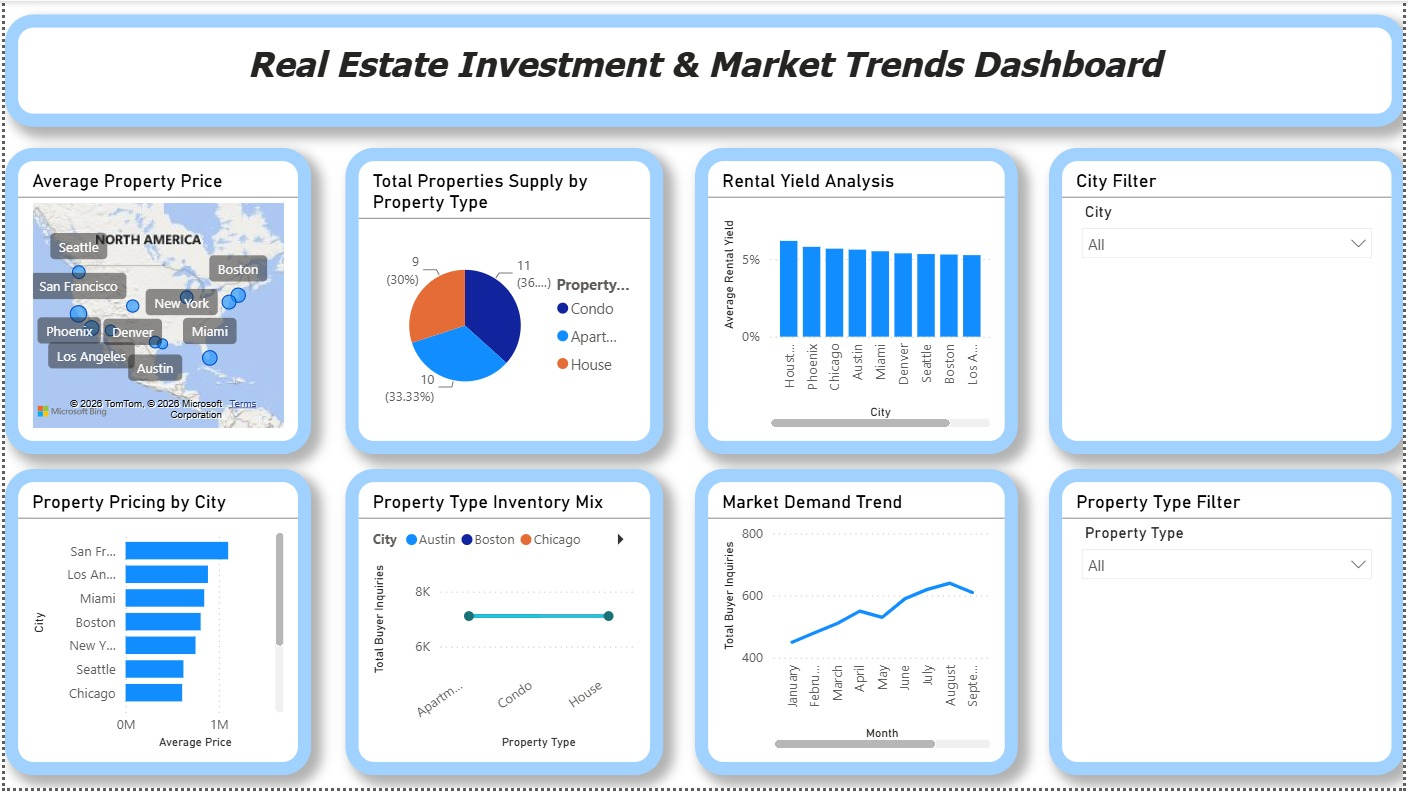

The page's visual inventory and layout, read from the dashboard file:
{"tool":"powerbi","page":{"name":"Page 1","canvas":[1280,720],"ordinal":0},"visuals":[{"type":"map","title":"Average Property Price","fields":{"Category":["Property_Transactions.City"],"Size":["Market_Demand_Forecast.Average Price"]},"box":[0,134.5,280,280],"z":0},{"type":"clusteredBarChart","title":"Property Pricing by City","fields":{"Category":["Property_Transactions.City"],"Y":["Market_Demand_Forecast.Average Price"]},"box":[0,428.2,280,280],"z":1000},{"type":"pieChart","fields":{"Category":["Property_Transactions.Property Type"],"Y":["Market_Demand_Forecast.Total Properties Supply"]},"box":[311.5,134.5,290.9,280],"z":2000},{"type":"lineChart","title":"Property Type Inventory Mix","fields":{"Category":["Property_Transactions.Property Type"],"Y":["Market_Demand_Forecast.Total Buyer Inquiries"],"Series":["Property_Transactions.City"]},"box":[311.5,428.2,290.9,280],"z":3000},{"type":"clusteredColumnChart","title":"Rental Yield Analysis","fields":{"Category":["Property_Transactions.City"],"Y":["Market_Demand_Forecast.Average Rental Yield"]},"box":[631.3,134.5,295.1,280],"z":4000},{"type":"lineChart","title":"Market Demand Trend","fields":{"Category":["Market_Demand_Forecast.Month.Variation.Date Hierarchy.Month"],"Y":["Market_Demand_Forecast.Total Buyer Inquiries"]},"box":[631.3,428.2,295.1,280],"z":5000},{"type":"slicer","title":"City Filter","fields":{"Values":["Property_Transactions.City"]},"box":[955.1,134.5,325.2,280],"z":6000},{"type":"slicer","title":"Property Type Filter","fields":{"Values":["Property_Transactions.Property Type"]},"box":[955.1,428.2,325.2,280],"z":7000},{"type":"textbox","box":[0,12.4,1280.4,102.9],"z":8000}]}

Visuals, with their boxes in screenshot pixels (x1, y1, x2, y2), scaled from the page's 1280x720 canvas onto the 1408x793 screenshot:
"Average Property Price" map: [0,148,308,457]
"Property Pricing by City" clusteredBarChart: [0,472,308,780]
pieChart - Property_Transactions.Property Type x Market_Demand_Forecast.Total Properties Supply: [343,148,663,457]
"Property Type Inventory Mix" lineChart: [343,472,663,780]
"Rental Yield Analysis" clusteredColumnChart: [694,148,1019,457]
"Market Demand Trend" lineChart: [694,472,1019,780]
"City Filter" slicer: [1051,148,1407,457]
"Property Type Filter" slicer: [1051,472,1407,780]
textbox: [0,14,1407,127]
